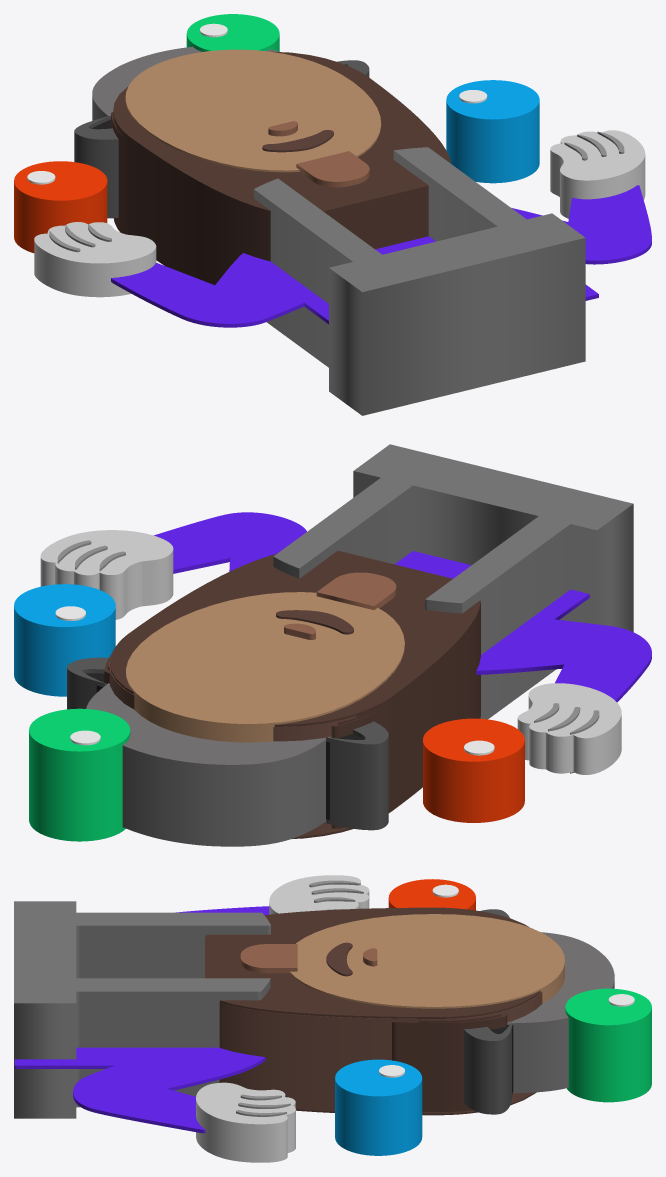
Rendered from emoji_u1f939_1f3fd_200d_2640.glb.
3 views of the same model, one above another, from view 1: azimuth 30°, elevation 25°; view 2: azimuth 150°, elevation 25°; view 3: azimuth 270°, elevation 25° (orthographic). The views are drawn at different scales.
Visible parts, largest first — view 1: emoji_u1f939_1f3fd_200d_2640; view 2: emoji_u1f939_1f3fd_200d_2640; view 3: emoji_u1f939_1f3fd_200d_2640.
Part boxes in pixels (x1,y1,x2,y2): emoji_u1f939_1f3fd_200d_2640: (14,14,651,415); emoji_u1f939_1f3fd_200d_2640: (14,444,651,846); emoji_u1f939_1f3fd_200d_2640: (14,875,651,1162).
Bounding box in the file's own units: 0.0309 × 0.0066 × 0.033.
